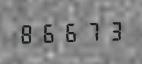eight: (18, 21, 38, 45)
seven: (81, 19, 101, 42)
six: (39, 21, 59, 44), (60, 20, 80, 43)
three: (102, 18, 122, 42)
